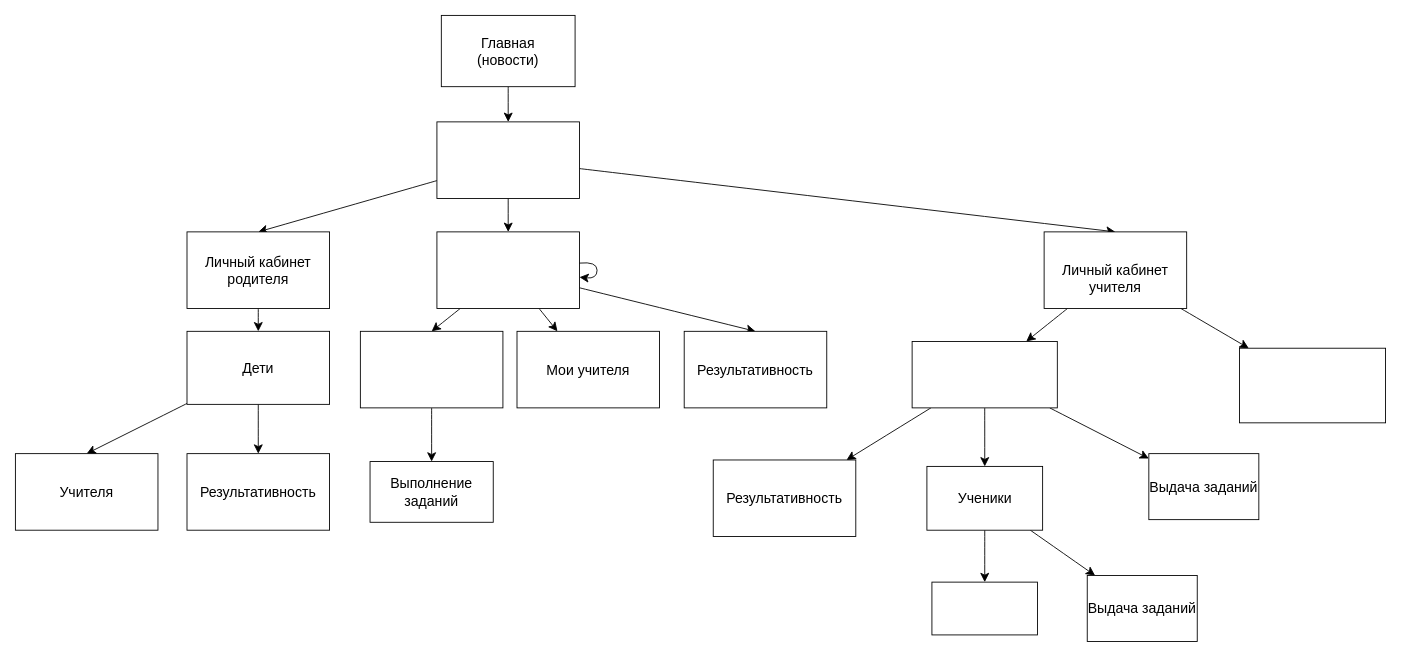
Some shapes in this 1401 by 657 pixel diagram are drawn without their labels. Each missing label, with the centre of its shape:
Вход/регистрация: point (507, 159)
Задания: point (431, 369)
Классы: point (984, 374)
Личный кабинет ученика: point (507, 269)
Ручная проверка заданий: point (984, 608)
Создание заданий: point (1312, 385)
